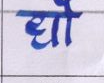au_matra: (59, 0, 77, 45)
